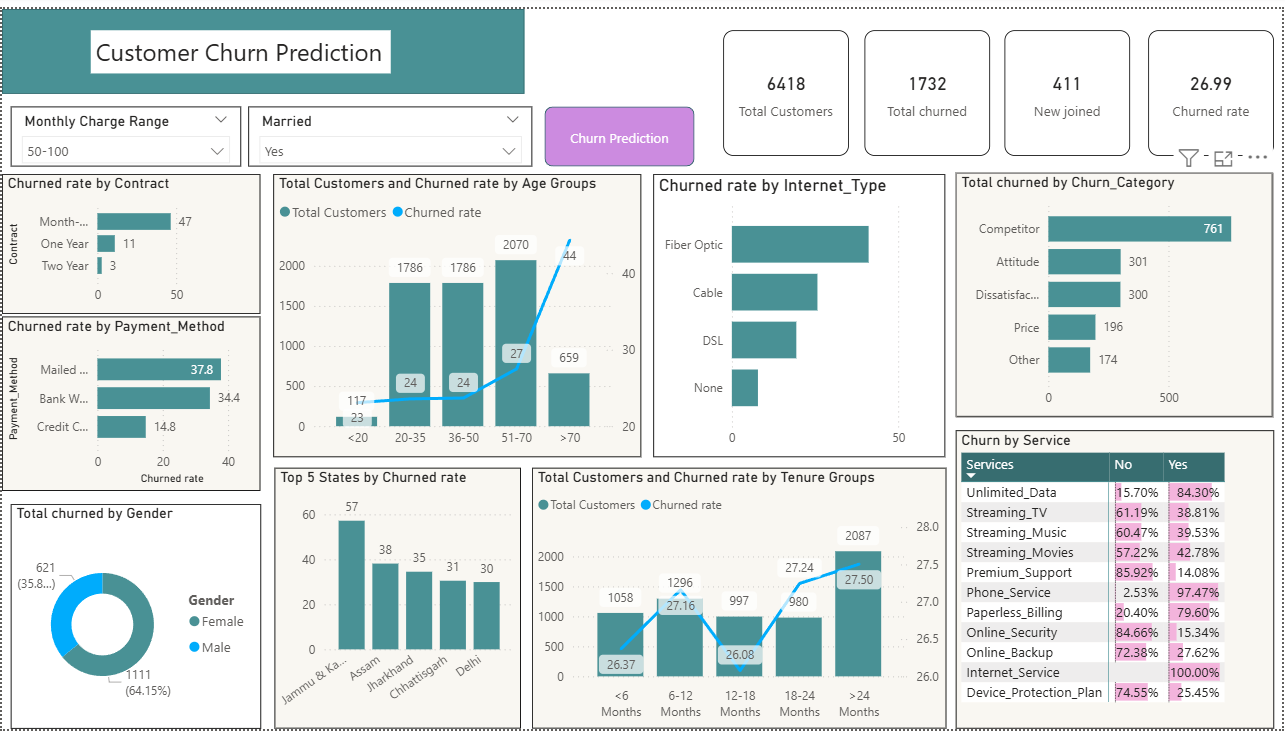

This screenshot's page, from the dashboard's own definition file:
{"tool":"powerbi","page":{"name":"Summary","canvas":[1280,720],"ordinal":0},"visuals":[{"type":"card","fields":{"Values":["Table_Measures.Total Customers"]},"box":[721.4,21.4,125.7,125.7],"z":0},{"type":"card","fields":{"Values":["Table_Measures.Total_churned"]},"box":[862.9,21.4,125.7,125.7],"z":1000},{"type":"card","fields":{"Values":["Table_Measures.New_joined"]},"box":[1002.9,21.4,125.7,125.7],"z":2000},{"type":"card","fields":{"Values":["Table_Measures.Churned_rate"]},"box":[1145.7,21.4,125.7,125.7],"z":3000},{"type":"donutChart","fields":{"Category":["prod_churn.Gender"],"Y":["Table_Measures.Total_churned"]},"box":[8.3,495,250,225],"z":4000},{"type":"lineStackedColumnComboChart","fields":{"Category":["mapping_Age_grp.Age Groups"],"Y":["Table_Measures.Total Customers"],"Y2":["Table_Measures.Churned_rate"]},"box":[271.7,165,368.3,283.3],"z":5000},{"type":"clusteredBarChart","fields":{"Category":["prod_churn.Payment_Method"],"Y":["Table_Measures.Churned_rate"]},"box":[0,307.1,258.6,174.3],"z":6000},{"type":"clusteredBarChart","fields":{"Category":["prod_churn.Contract"],"Y":["Table_Measures.Churned_rate"]},"box":[0,165,258.3,140],"z":7000},{"type":"lineStackedColumnComboChart","fields":{"Category":["mapping_Tenure_grp.Tenure Groups"],"Y":["Table_Measures.Total Customers"],"Y2":["Table_Measures.Churned_rate"]},"box":[530,459,414,261],"z":8000},{"type":"clusteredColumnChart","title":"Top 5 States by Churned rate","fields":{"Category":["prod_churn.State"],"Y":["Table_Measures.Churned rate"]},"box":[272,459,246,261],"z":9000},{"type":"clusteredBarChart","fields":{"Category":["prod_churn.Churn_Category"],"Y":["Table_Measures.Total churned"]},"box":[954.3,164.3,317.1,244.3],"z":10000},{"type":"pivotTable","title":"Churn by Service","fields":{"Rows":["services_columns.Services"],"Columns":["services_columns.Service Status"],"Values":["Sum(services_columns.Churned Status)"]},"box":[954.3,421.4,318.6,298.6],"z":11000},{"type":"slicer","fields":{"Values":["services_columns.Monthly Charge Status"]},"box":[8.6,97.1,230,60],"z":12000},{"type":"slicer","fields":{"Values":["services_columns.Married"]},"box":[245.7,97.1,284.3,60],"z":13000},{"type":"shape","box":[0,0,522.5,85],"z":14000},{"type":"textbox","box":[88.3,21.7,300,43.3],"z":15000},{"type":"clusteredBarChart","fields":{"Category":["prod_churn.Internet_Type"],"Y":["Table_Measures.Churned rate"]},"box":[651.7,165,291.7,283.3],"z":16000},{"type":"shape","box":[542.7,97.3,150,60],"z":16001}]}

Visuals, with their boxes in screenshot pixels (x1, y1, x2, y2), scaled from the page's 1280x720 canvas onto the 1285x733 screenshot:
card - Table_Measures.Total Customers: select_region(724, 22, 850, 150)
card - Table_Measures.Total_churned: select_region(866, 22, 992, 150)
card - Table_Measures.New_joined: select_region(1007, 22, 1133, 150)
card - Table_Measures.Churned_rate: select_region(1150, 22, 1276, 150)
donutChart - prod_churn.Gender x Table_Measures.Total_churned: select_region(8, 504, 259, 732)
lineStackedColumnComboChart - mapping_Age_grp.Age Groups x Table_Measures.Total Customers: select_region(273, 168, 642, 456)
clusteredBarChart - prod_churn.Payment_Method x Table_Measures.Churned_rate: select_region(0, 313, 260, 490)
clusteredBarChart - prod_churn.Contract x Table_Measures.Churned_rate: select_region(0, 168, 259, 311)
lineStackedColumnComboChart - mapping_Tenure_grp.Tenure Groups x Table_Measures.Total Customers: select_region(532, 467, 948, 732)
"Top 5 States by Churned rate" clusteredColumnChart: select_region(273, 467, 520, 732)
clusteredBarChart - prod_churn.Churn_Category x Table_Measures.Total churned: select_region(958, 167, 1276, 416)
"Churn by Service" pivotTable: select_region(958, 429, 1278, 732)
slicer - services_columns.Monthly Charge Status: select_region(9, 99, 240, 160)
slicer - services_columns.Married: select_region(247, 99, 532, 160)
shape: select_region(0, 0, 525, 87)
textbox: select_region(89, 22, 390, 66)
clusteredBarChart - prod_churn.Internet_Type x Table_Measures.Churned rate: select_region(654, 168, 947, 456)
shape: select_region(545, 99, 695, 160)
